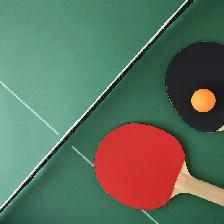YellowBall: (189, 88, 216, 112)
